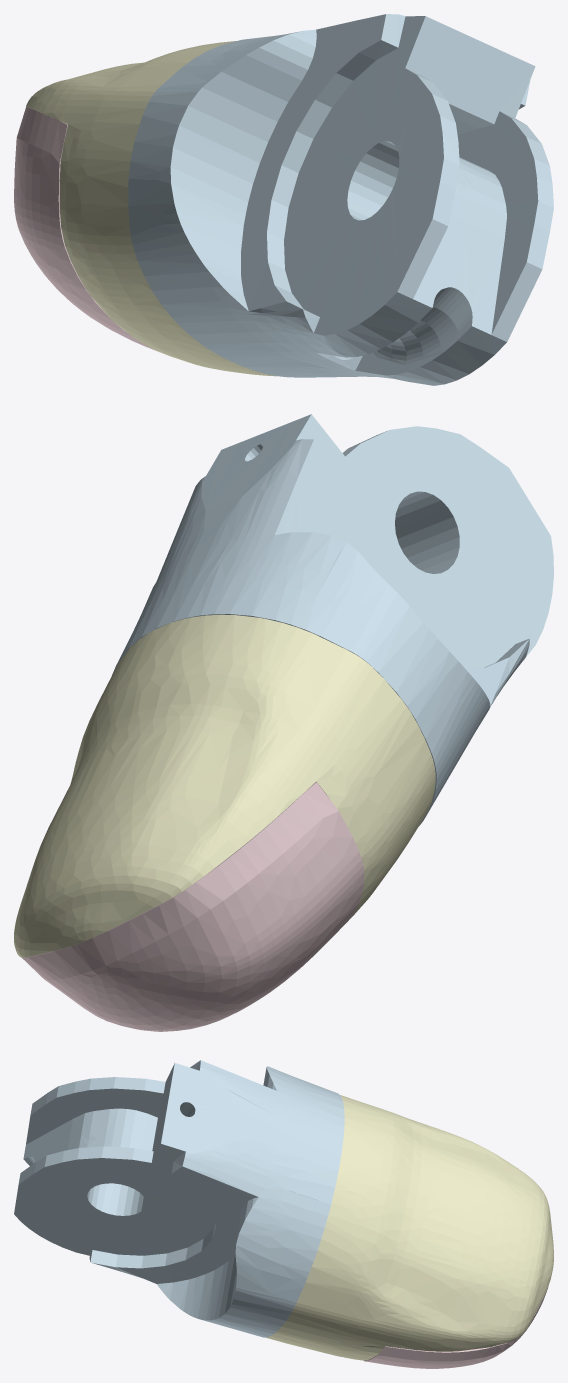
Rendered from i02_leftHand_ringFingerTip_visual.obj.balanced.glb.
3 renders of one model, top to bottom at view 1: azimuth 30°, elevation 25°; view 2: azimuth 150°, elevation 25°; view 3: azimuth 270°, elevation 25°, orthographic. The views are drawn at different scales.
Size of the model in its own units: 0.1603 by 0.2072 by 0.326.
